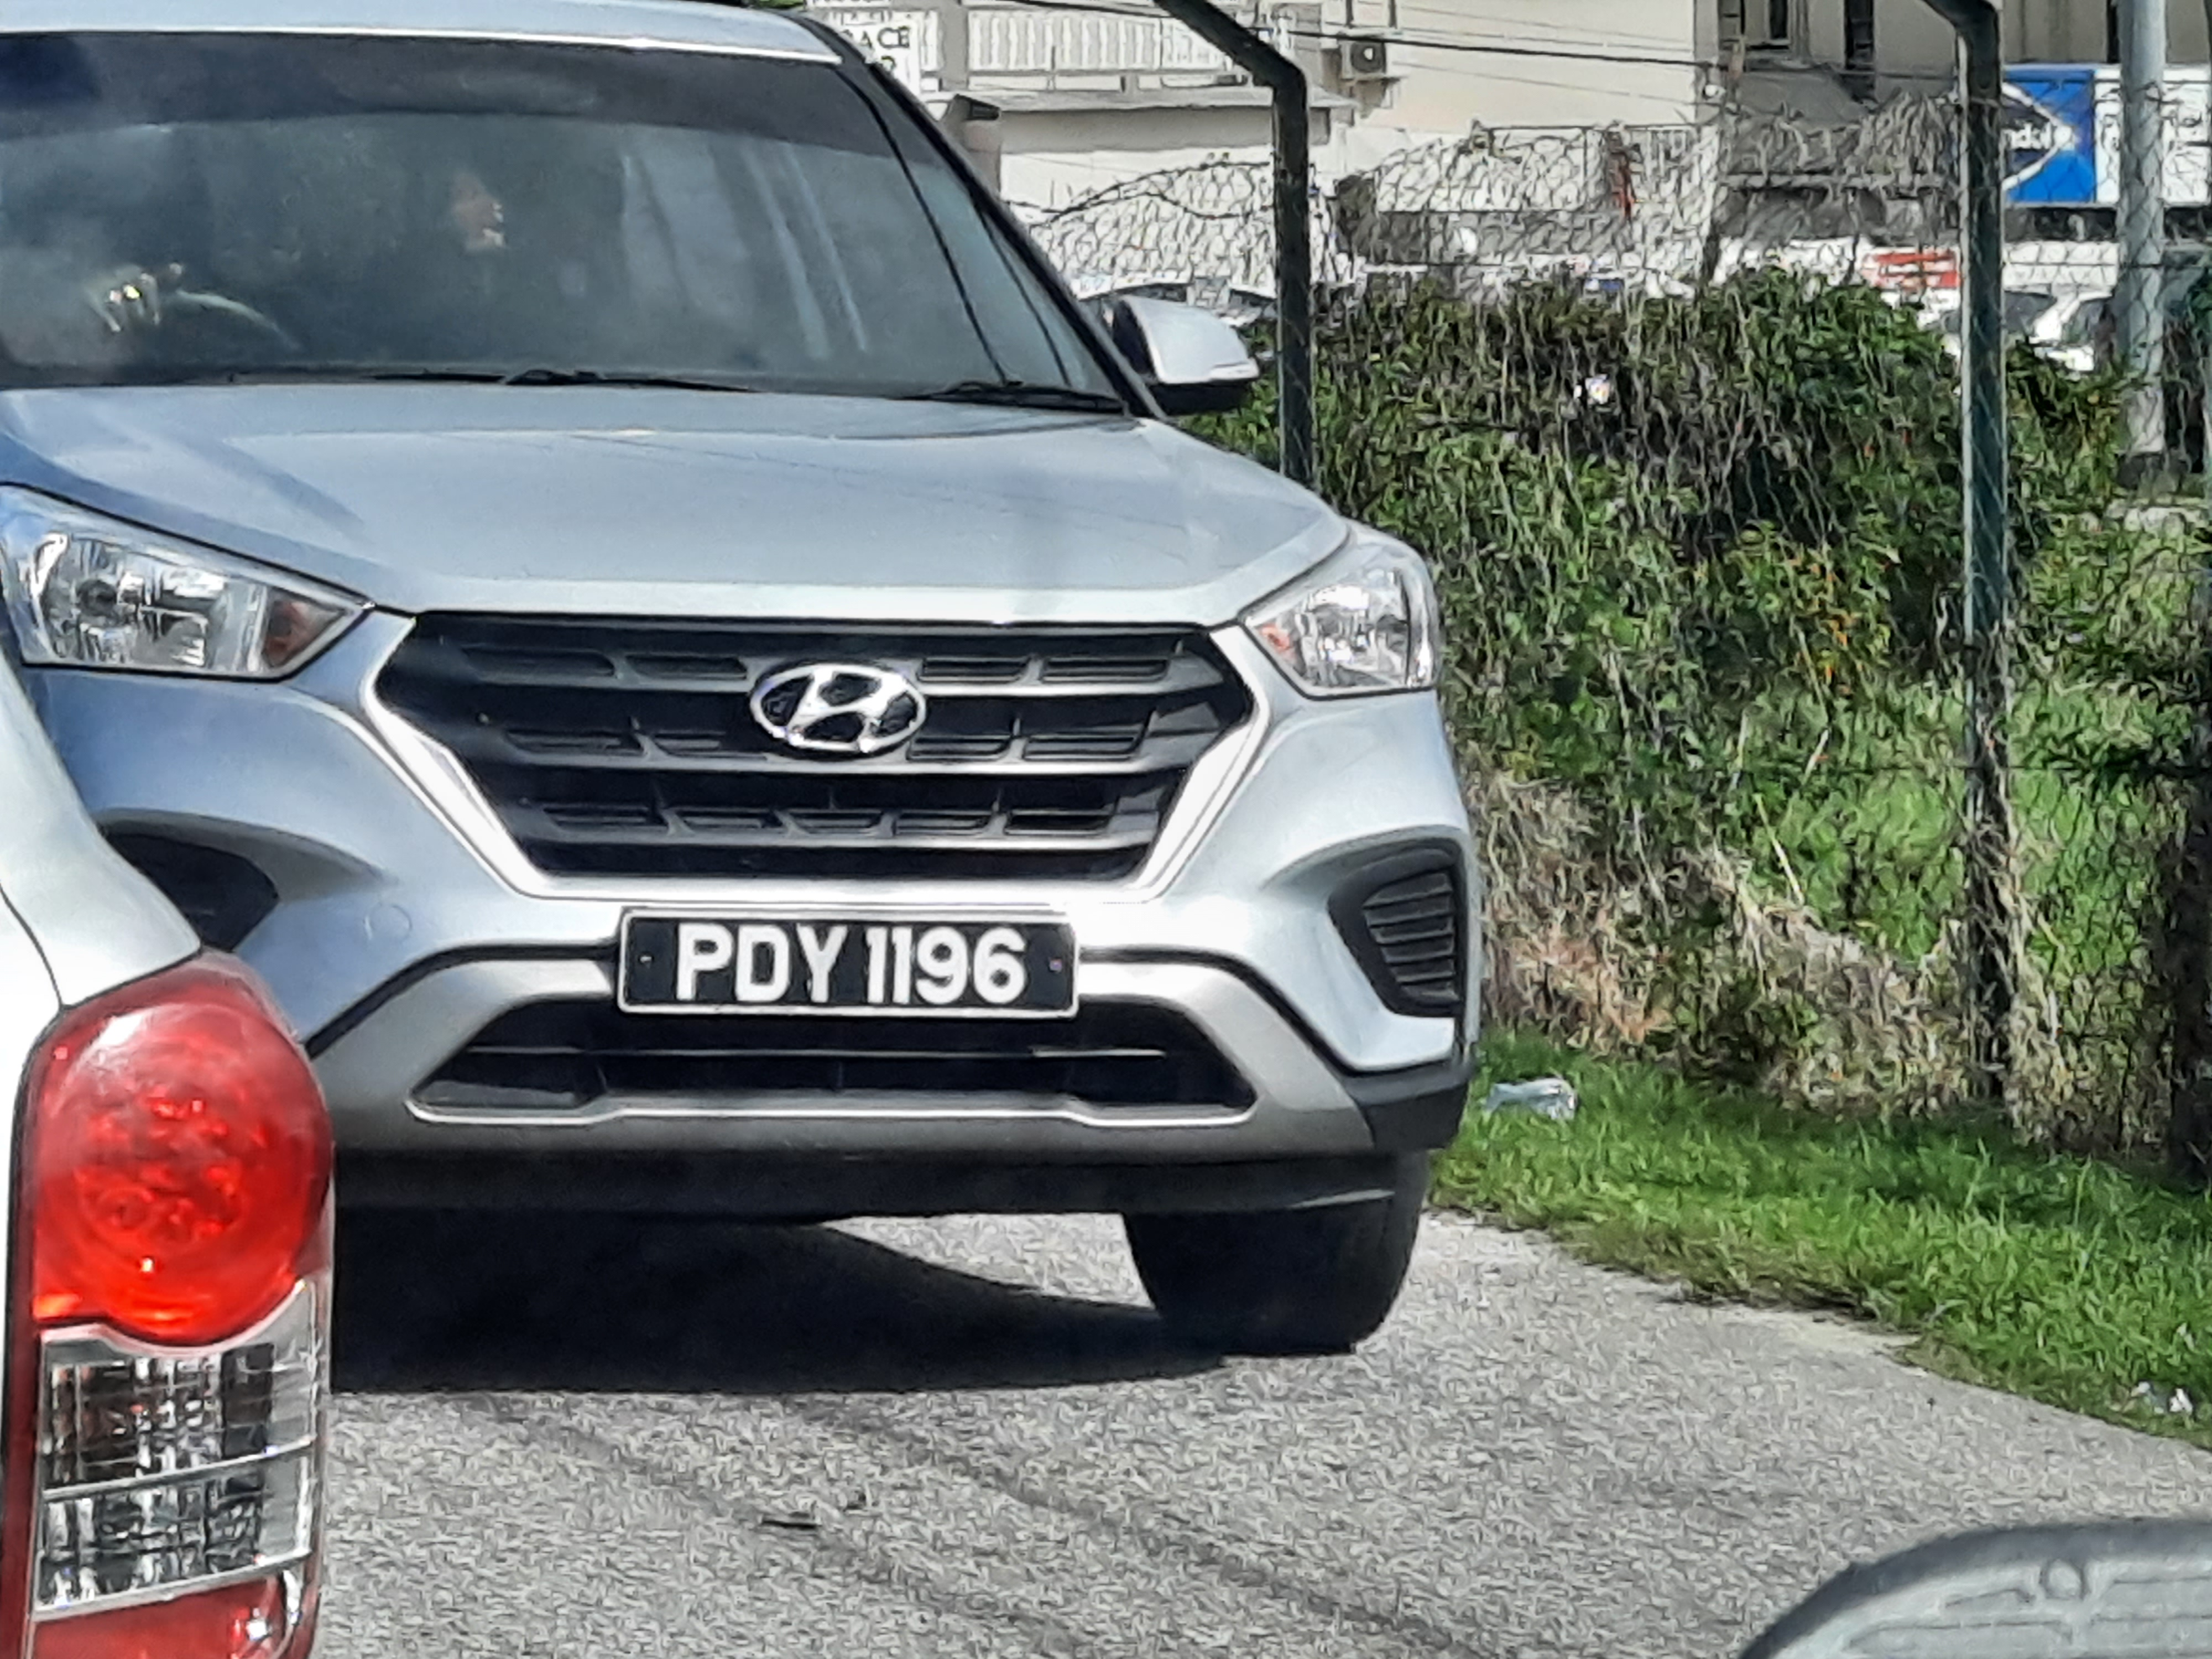License-Plate: (615, 905, 1083, 1019)
